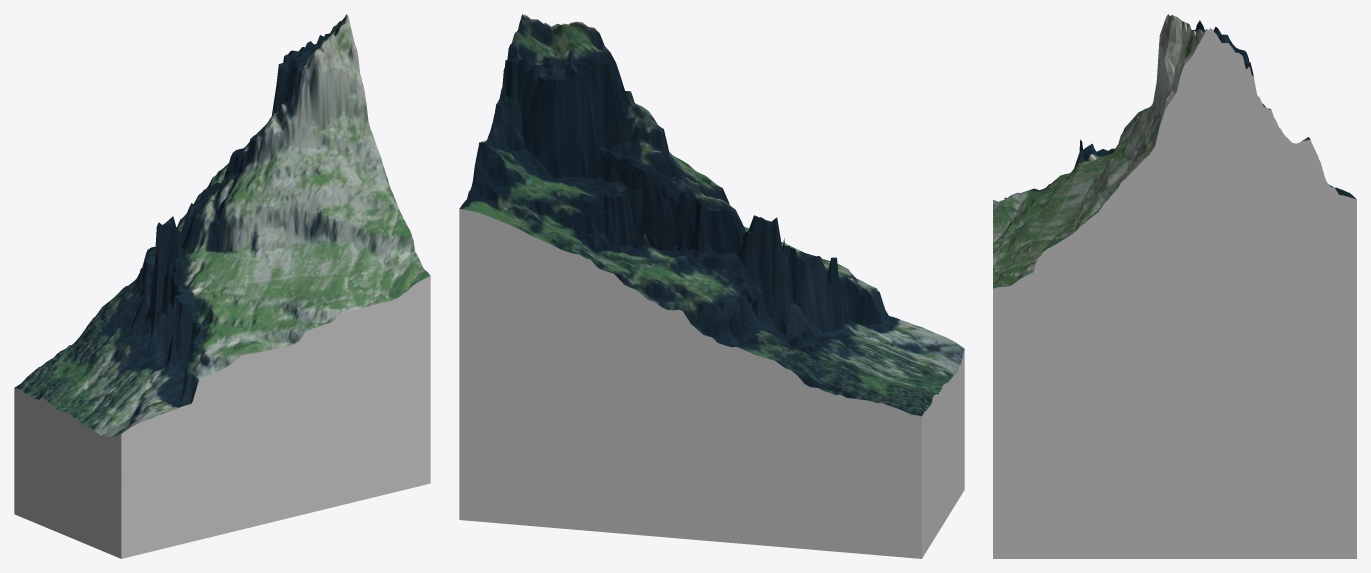
The model's file is GrindScene9.gltf.
3 renders of one model, left to right at view 1: azimuth 30°, elevation 25°; view 2: azimuth 150°, elevation 25°; view 3: azimuth 270°, elevation 25°, orthographic. The views are drawn at different scales.
Visible parts, largest first — view 1: Plane; view 2: Plane; view 3: Plane.
Part boxes in pixels (x1,y1,x2,y2): Plane: [14, 14, 430, 558]; Plane: [459, 14, 964, 558]; Plane: [993, 14, 1356, 558].
Size of the model in its own units: 0.5898 by 0.6694 by 0.4157.
2 materials, 1 textured.
